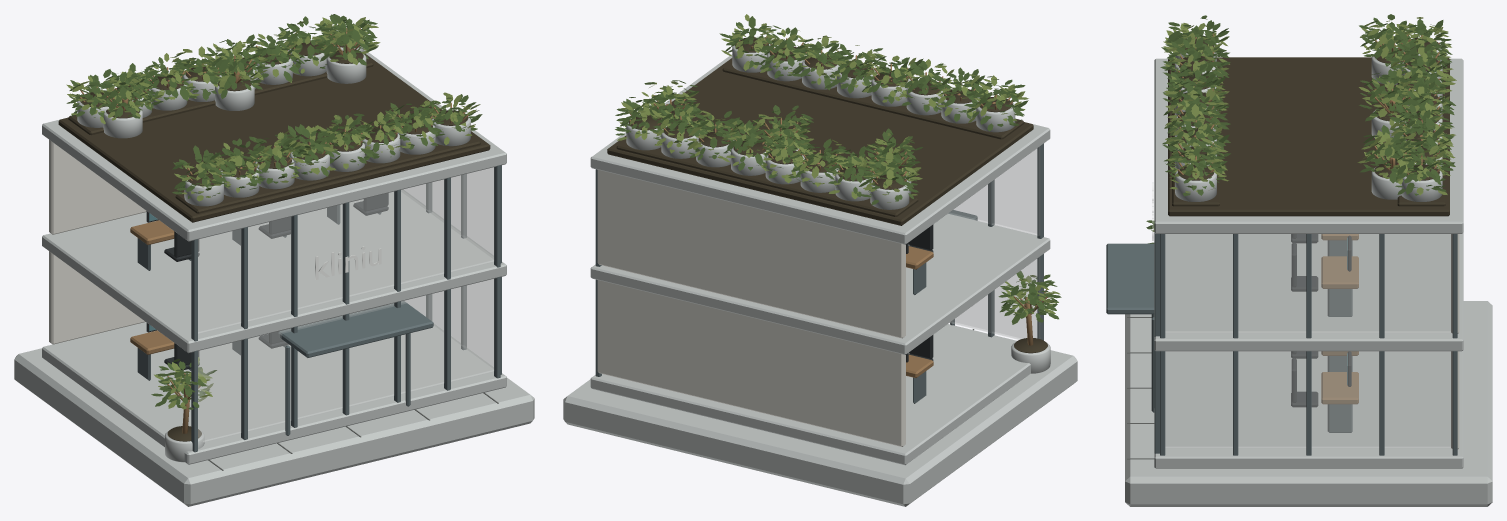
The model's file is kliniu-interactive-v2.glb.
3 views of the same model, side by side, from view 1: azimuth 30°, elevation 25°; view 2: azimuth 150°, elevation 25°; view 3: azimuth 270°, elevation 25° (orthographic). The views are drawn at different scales.
Parts seen in each view (by area): view 1: structure, roof, facade, interior, feature; view 2: structure, roof, facade, interior; view 3: structure, facade, roof, interior, feature.
Boxes of the visible parts, x1,y1,x2,y2 form: structure: [14, 140, 534, 506]; roof: [42, 14, 506, 241]; facade: [191, 165, 501, 452]; interior: [130, 193, 388, 380]; feature: [278, 301, 433, 357]; structure: [563, 170, 1077, 506]; roof: [590, 14, 1050, 244]; facade: [595, 143, 1043, 376]; interior: [906, 224, 933, 403]; structure: [1125, 183, 1492, 506]; facade: [1151, 233, 1457, 455]; roof: [1154, 14, 1463, 233]; interior: [1291, 234, 1358, 432]; feature: [1106, 243, 1154, 314].
Size of the model in its own units: 2.07 by 1.8 by 1.85.
